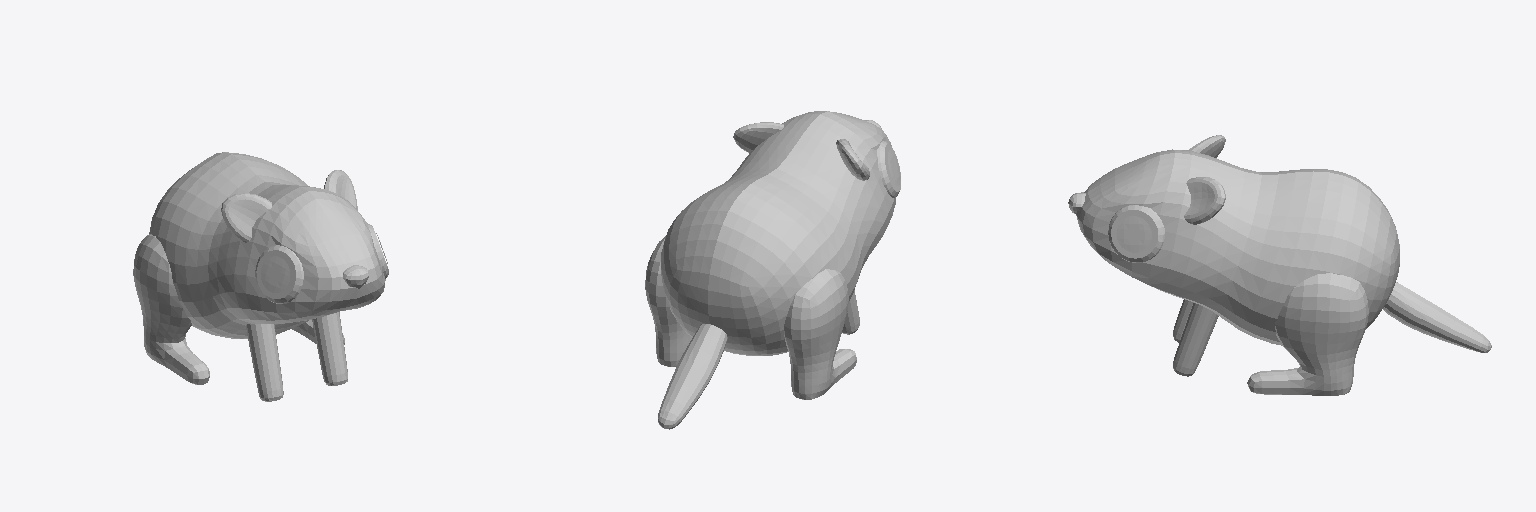
The model's file is Muskrat_LOD0.obj.
The picture shows the model from 3 angles: view 1: azimuth 30°, elevation 25°; view 2: azimuth 150°, elevation 25°; view 3: azimuth 270°, elevation 25°; orthographic projection.
Visible parts, largest first — view 1: Mesh_Muskrat_LOD0; view 2: Mesh_Muskrat_LOD0; view 3: Mesh_Muskrat_LOD0.
Part boxes in pixels (x1,y1,x2,y2): Mesh_Muskrat_LOD0: (133, 152, 388, 401); Mesh_Muskrat_LOD0: (645, 111, 900, 429); Mesh_Muskrat_LOD0: (1068, 135, 1491, 395).
Size of the model in its own units: 0.4662 by 0.5034 by 0.935.